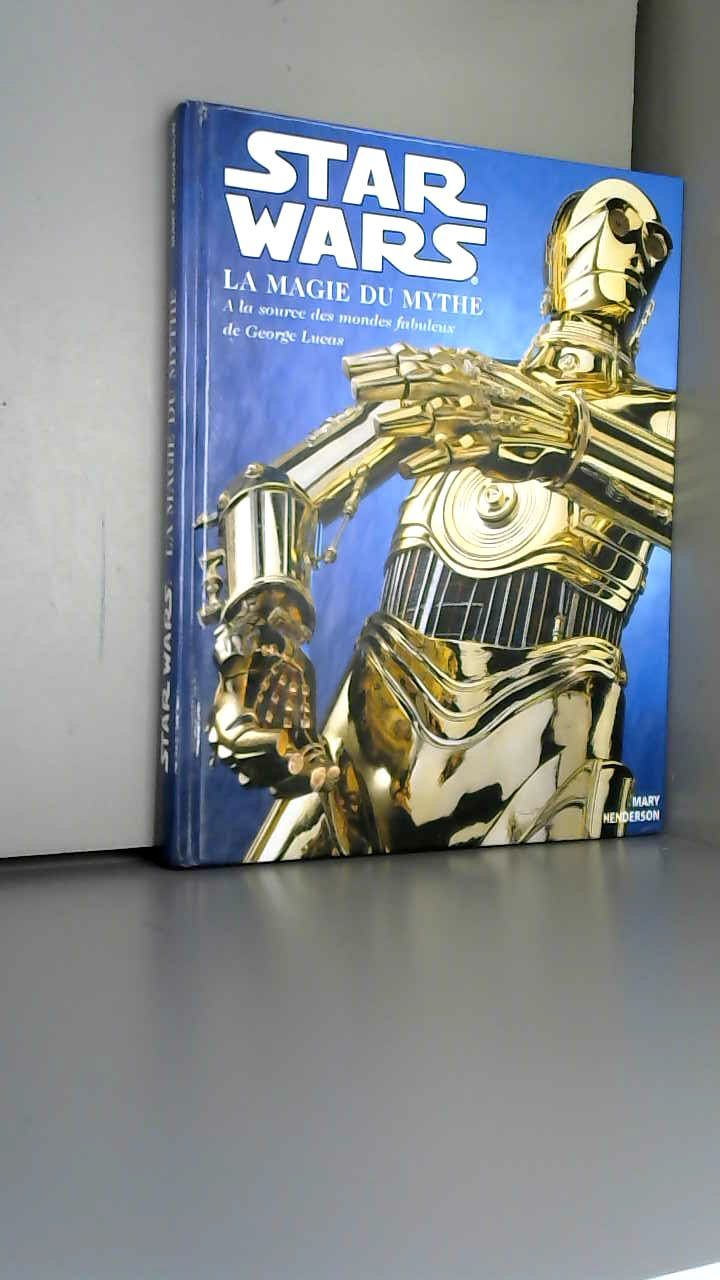book: (137, 69, 707, 895)
